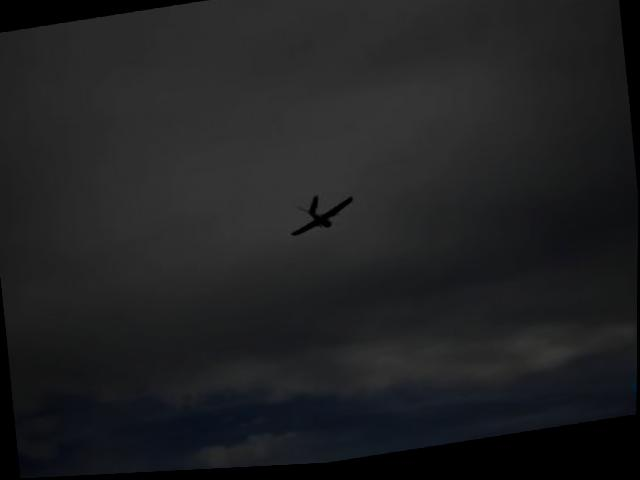uav: (281, 183, 362, 252)
